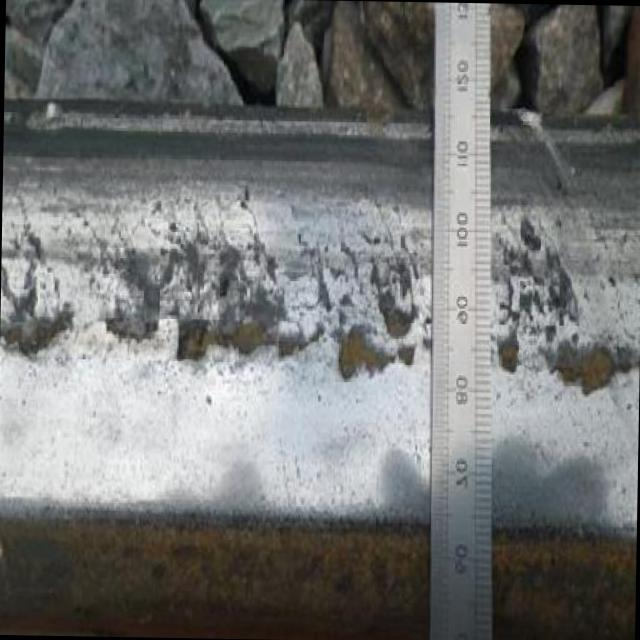defective: (0, 65, 636, 640)
